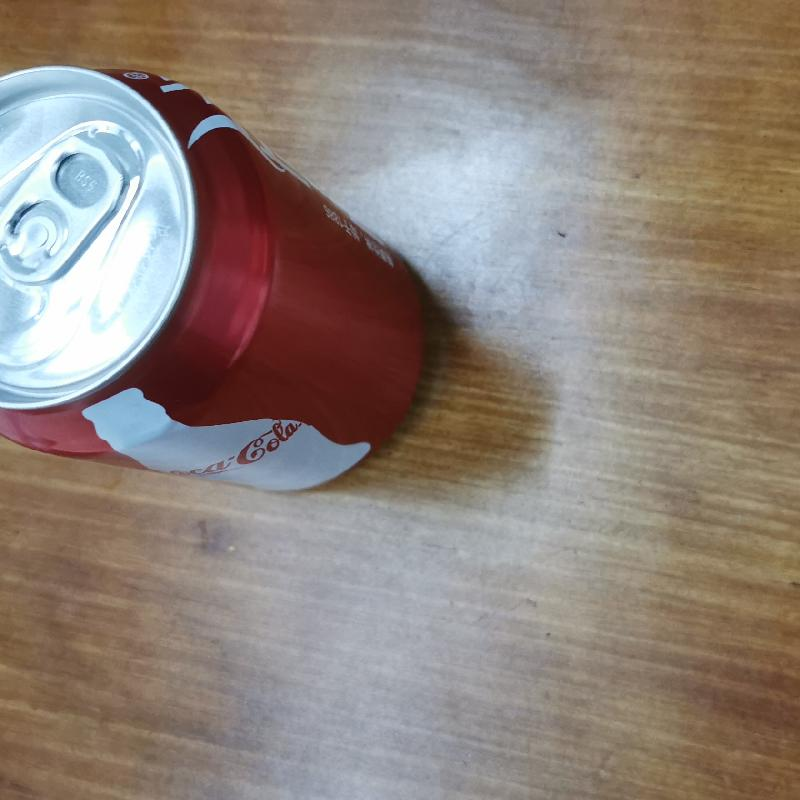cans: (4, 48, 431, 499)
